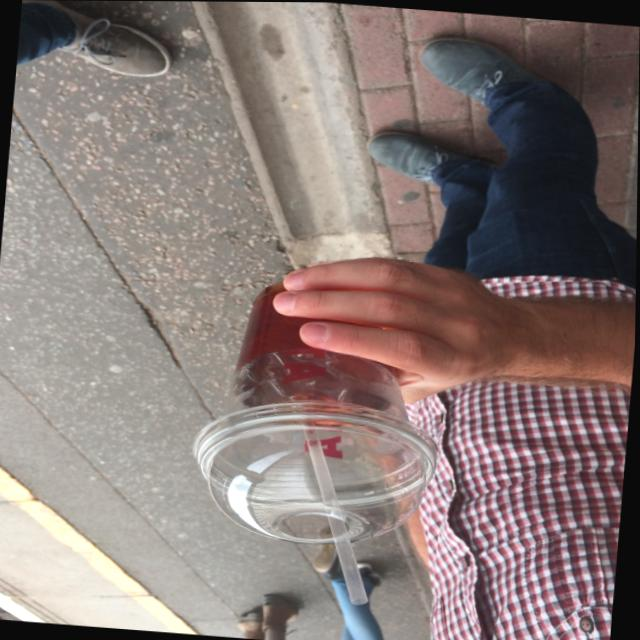Plastic: (161, 247, 471, 562), (249, 363, 402, 613)
